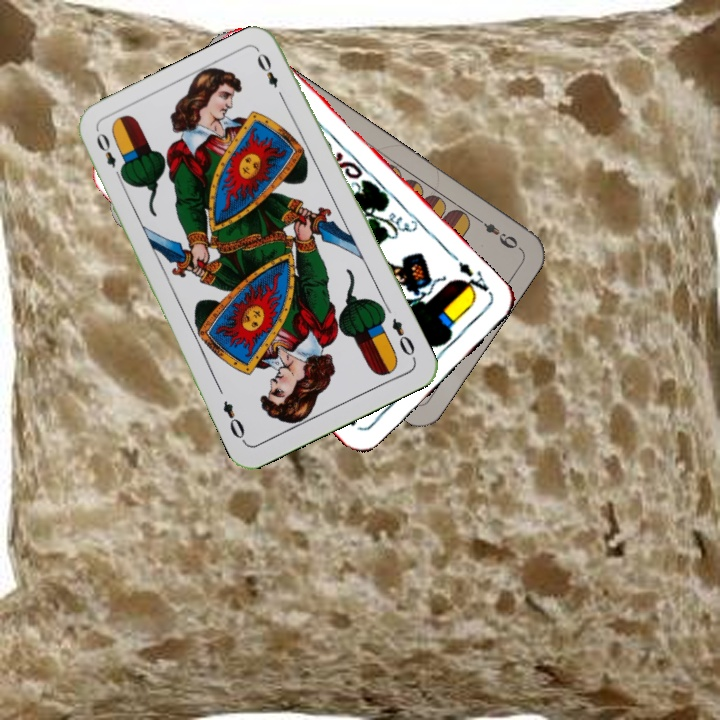E9: (471, 213, 523, 253)
EA: (454, 257, 495, 301)
EO: (92, 128, 126, 183), (387, 314, 418, 359)
